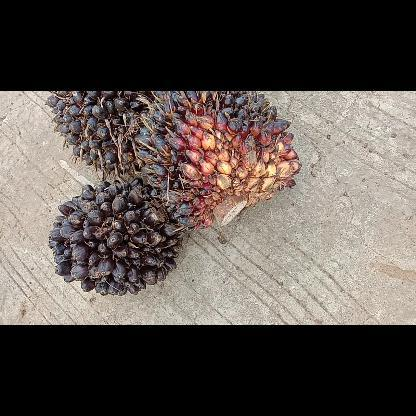TBS mentah: (132, 90, 304, 232), (46, 176, 182, 298), (42, 90, 174, 172)
